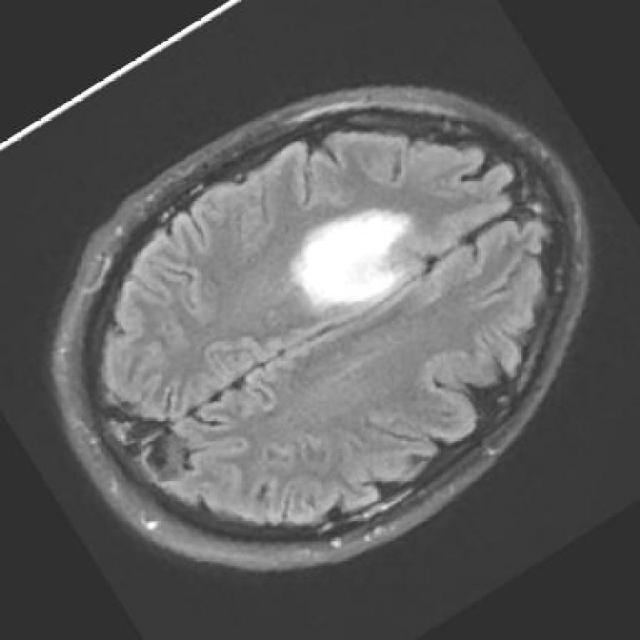Brain-Tumor: (282, 205, 437, 323)
